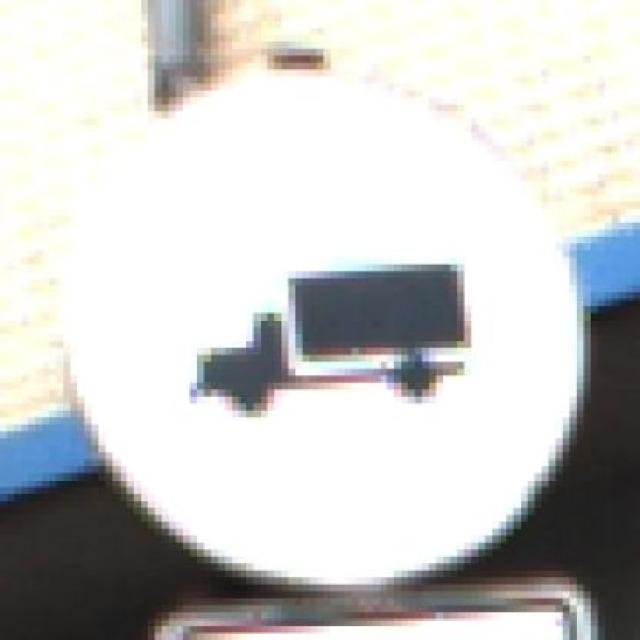Truck traffic is prohibited: (42, 49, 598, 592)
